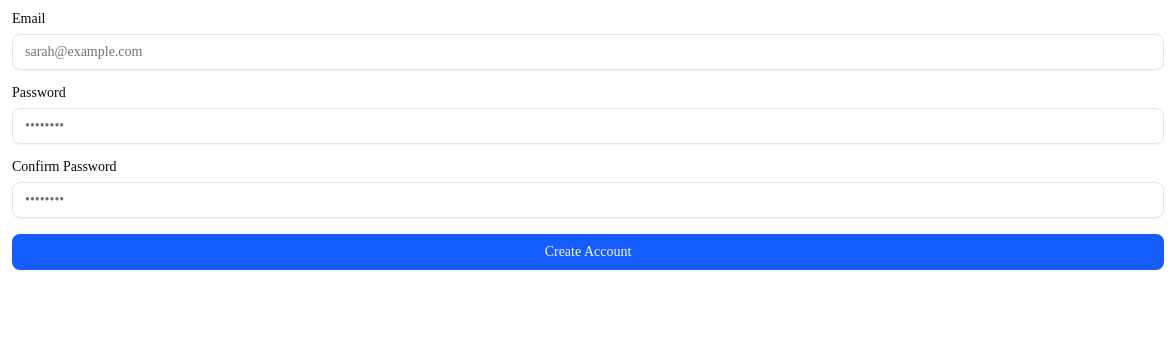
it: RegisterForm › shows error when passwords don't match
Type "test@example.com" into the field labelled "Email".
click(588, 52); type("test@example.com")  # box [12,34,1164,70]
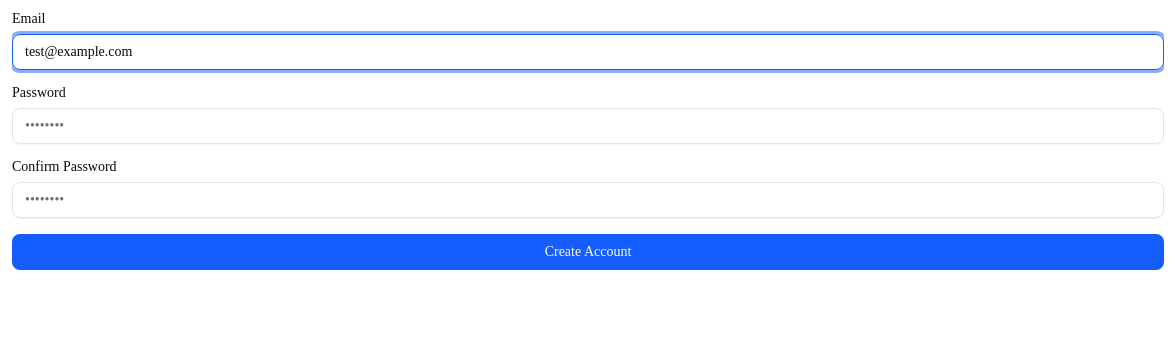
Type "StrongPass1!" into the password field labelled "Password".
click(588, 126); type("StrongPass1!")  # box [12,108,1164,144]
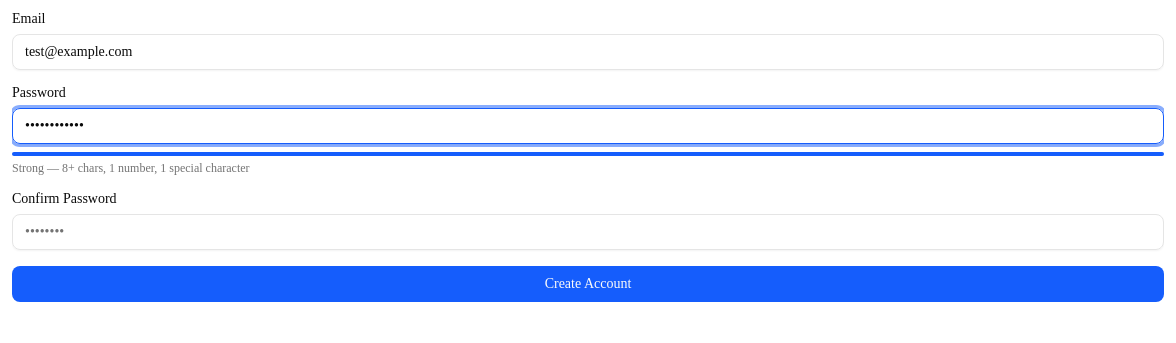
Type "Different1!" into the password field labelled "Confirm Password".
click(588, 232); type("Different1!")  # box [12,214,1164,250]
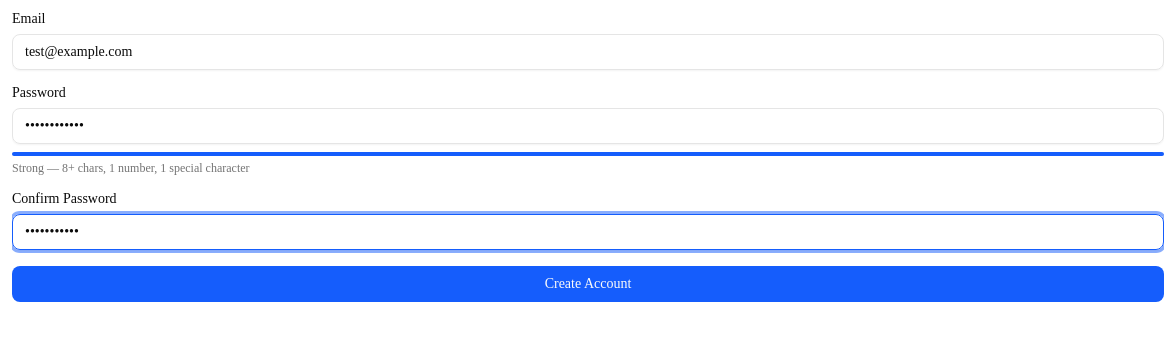
Click the button "Create Account".
click(588, 284)  # box [12,266,1164,302]
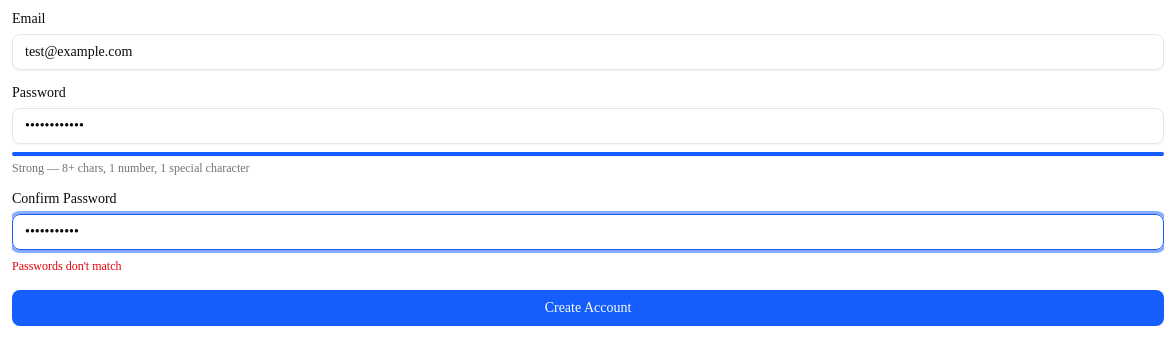
Check: the text "Passwords don't match" is shown, box [12,259,122,273]
